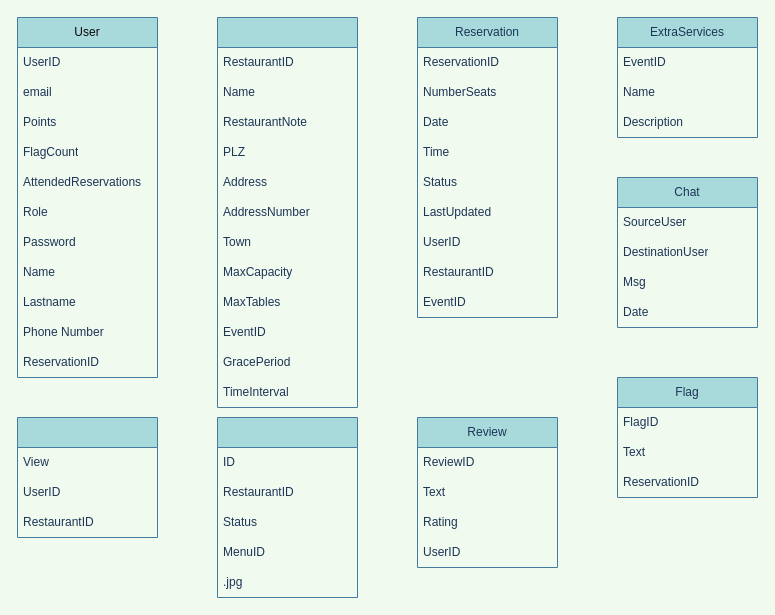
The diagram is 775 pixels wide and 615 high, and some of its shapes have lost their labels. The box of each missing label's shape, as (x1, y1, x2, y2) in pixels:
Images: (216, 416, 358, 598)
Restaurants: (216, 16, 358, 408)
Searches: (16, 416, 158, 538)
